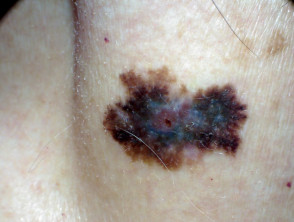melanoma: (88, 59, 260, 172)
